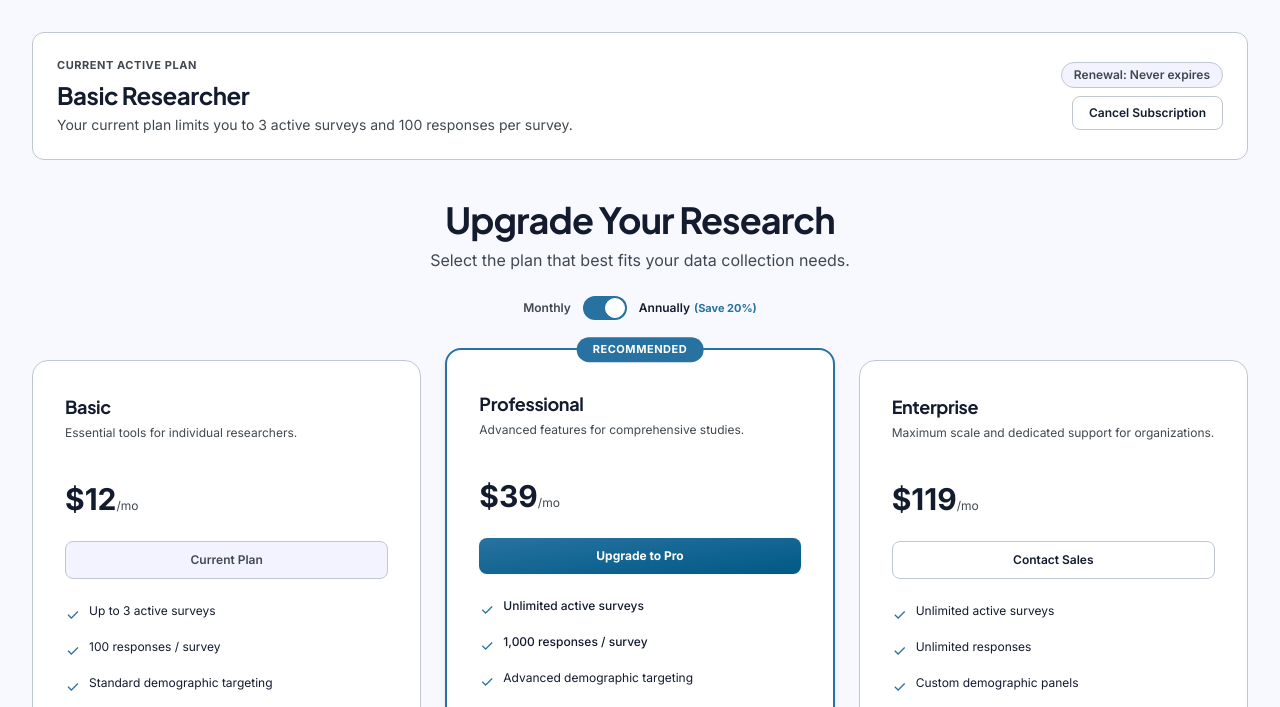
Scenario: Ethosk - Choose Subscription Plan (Stitch Screen 38ccf487ee184529aa928cfae24138af) › toggles billing period between annual and monthly
The width and height of the screenshot is (1280, 707).
Expected: the text "$39" is shown, [479,478,538,514]
What coordinates should you click on to do the following:
click the checkbox
I would click on:
 (605, 308)
Its box is [583,296,627,320].
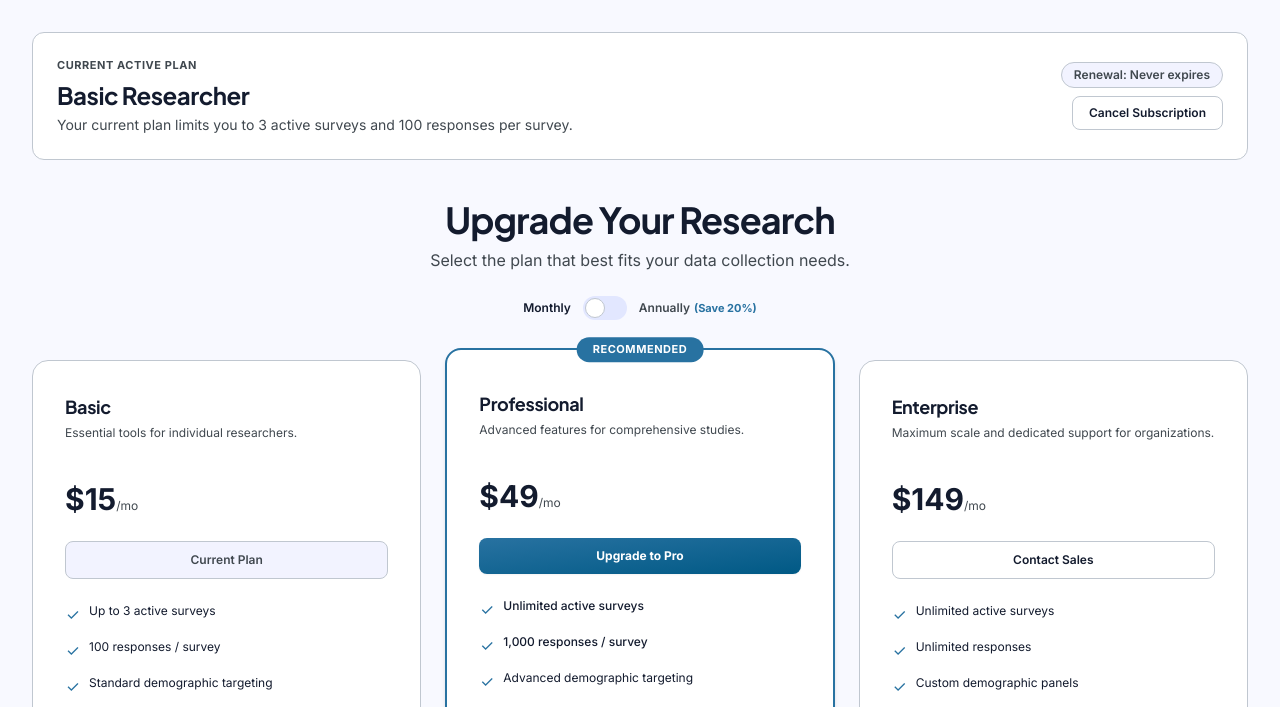
Result: the text "$49" is shown at [479,478,539,514]
